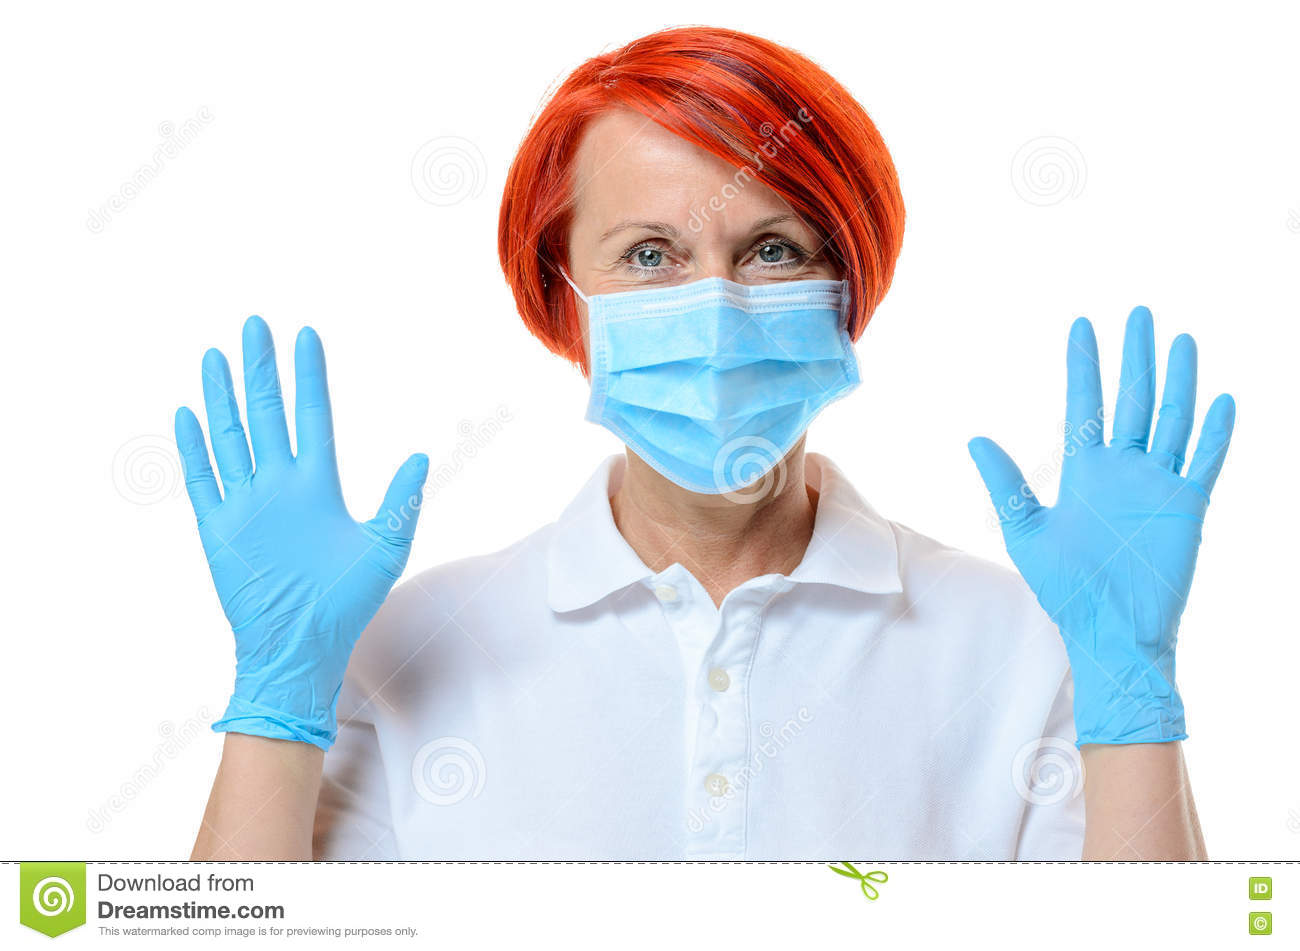mask: (575, 285, 866, 492)
